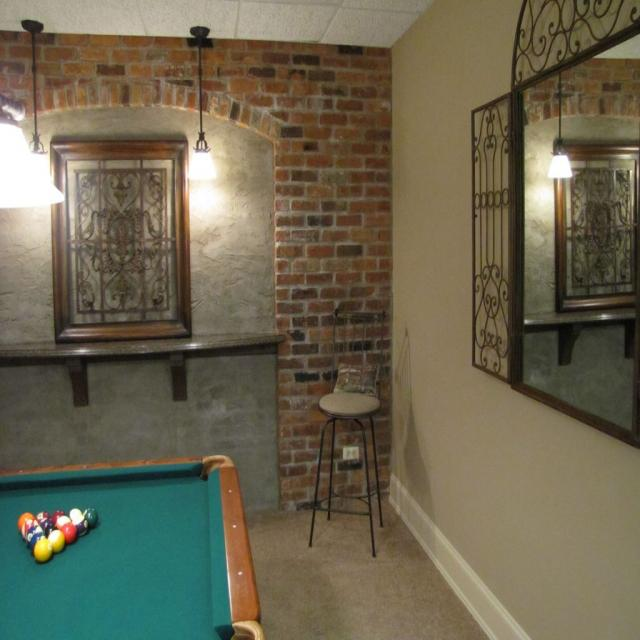Billiard table: (0, 452, 264, 639), (0, 456, 264, 639)
